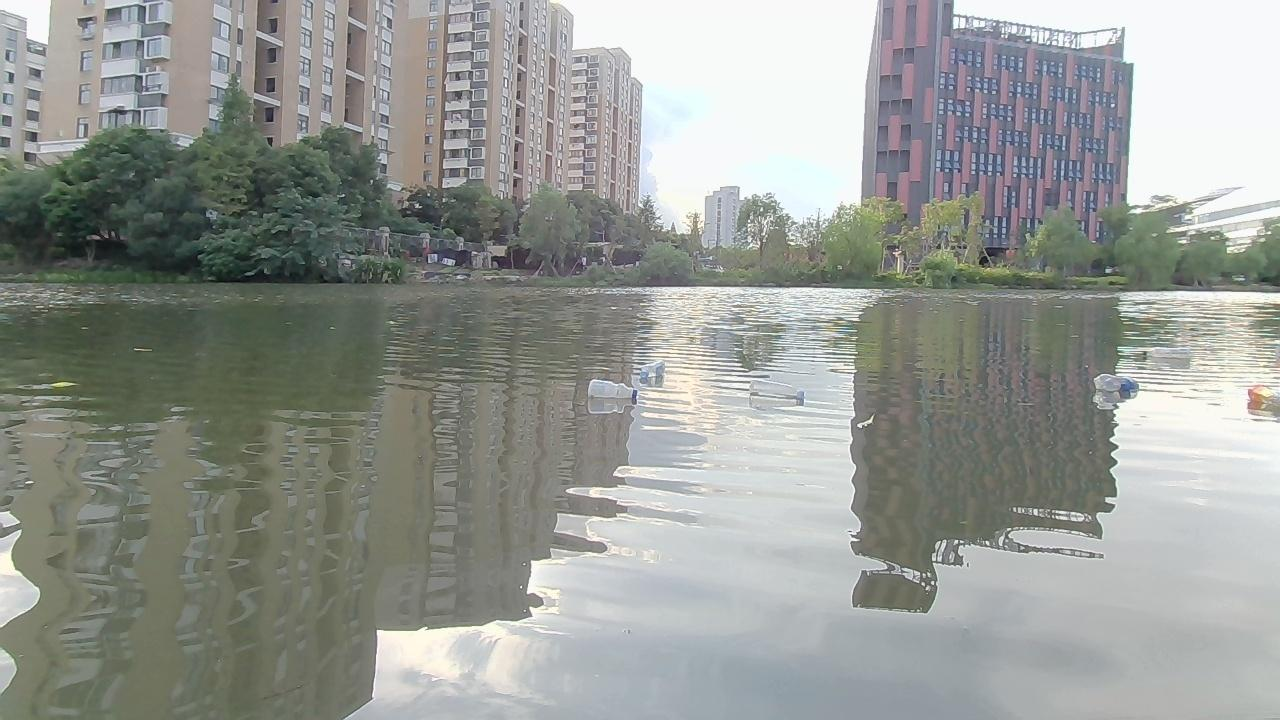bottle: (747, 378, 807, 407), (585, 377, 637, 404), (1094, 370, 1141, 399), (1136, 343, 1190, 366), (1249, 381, 1279, 406), (638, 360, 665, 382)
